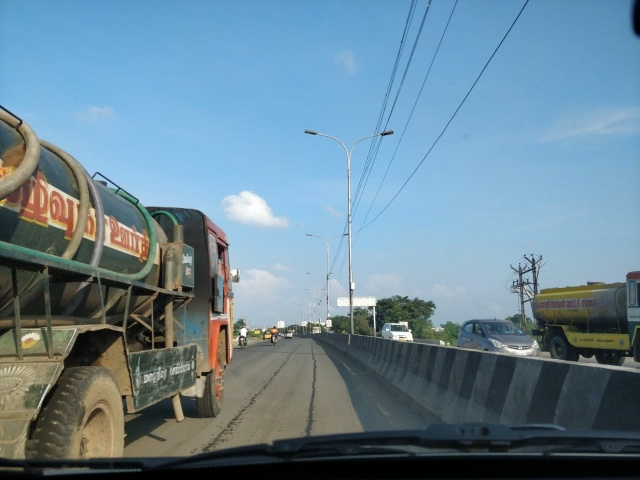auto: (261, 328, 271, 342)
car: (452, 316, 539, 381), (457, 318, 541, 358), (380, 321, 414, 354), (383, 325, 416, 340), (285, 330, 294, 340)
motorbike: (269, 324, 282, 346), (239, 323, 250, 349)
truck: (0, 104, 239, 460), (533, 271, 631, 349)
